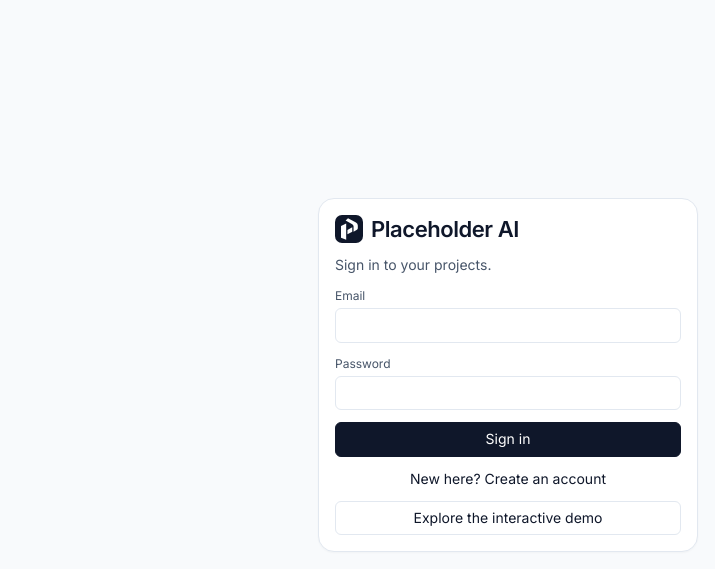
Test case: retained connected components (not public routes) › redirects to login when signed out, then signs in
Type "pm@example.com" into the field labelled "Email" at (508, 326), box [335,308,681,343]
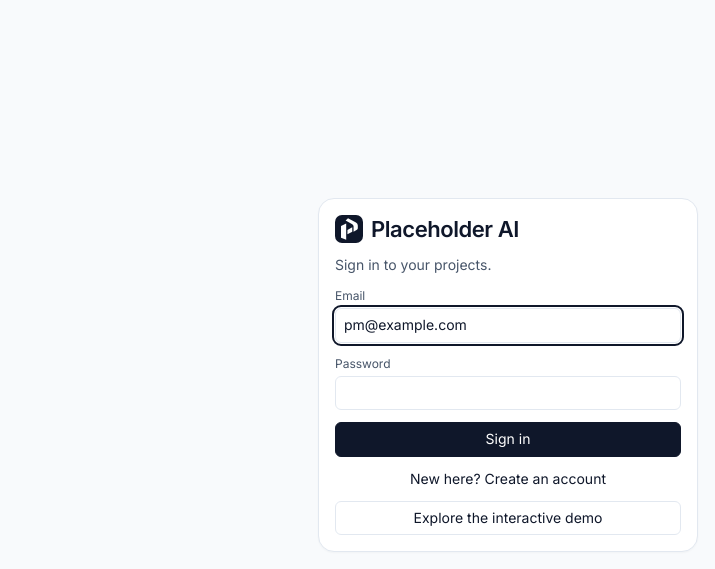
Type "password123" into the password field labelled "Password" at (508, 393), box [335,376,681,410]
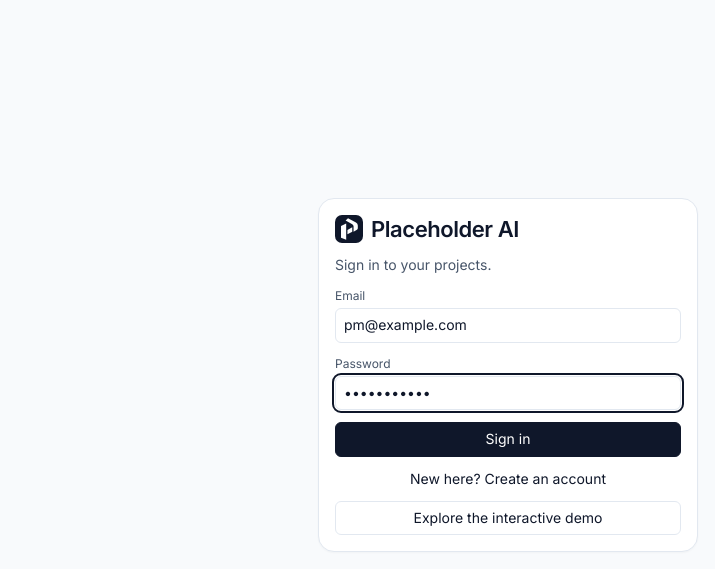
Click the button "Sign in" at (508, 440), box [335,422,681,457]
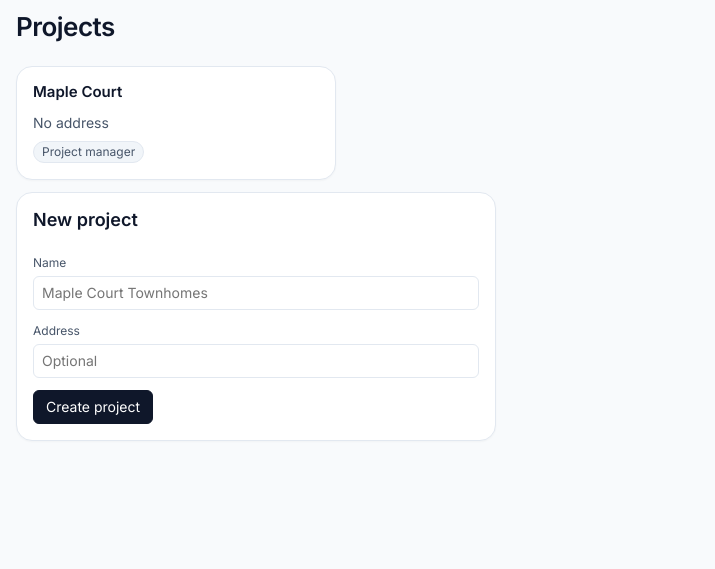
Now the heading "Maple Court" is shown, box [33,82,122,101]
Now the text "Project manager" is shown, box [33,142,144,163]
